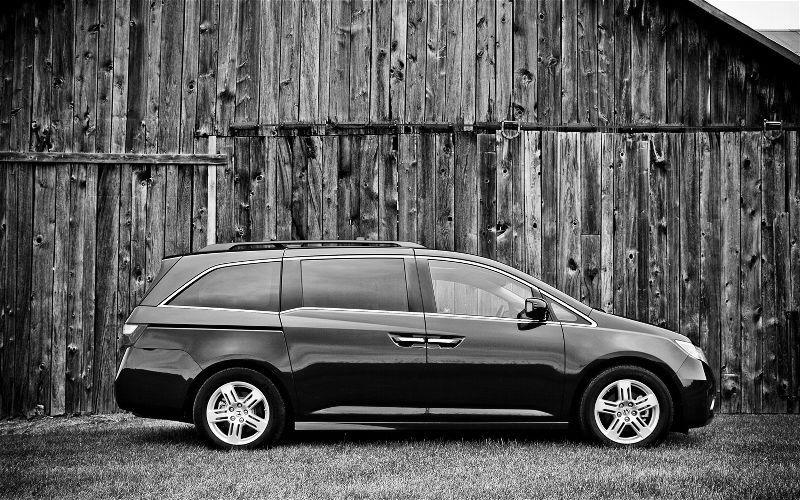car: (110, 235, 726, 455)
